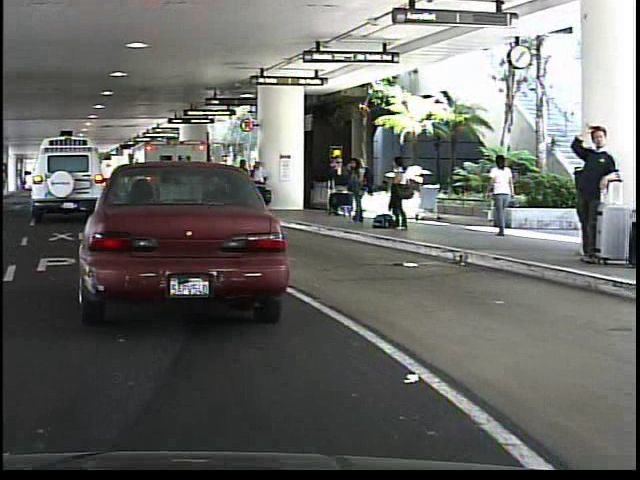person: (565, 118, 619, 266), (482, 154, 520, 238), (382, 153, 409, 231)
